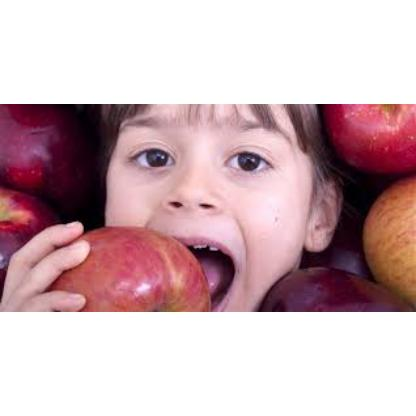apple: (36, 230, 216, 310), (0, 110, 83, 202), (264, 264, 402, 310), (356, 178, 414, 284), (318, 105, 408, 167)
